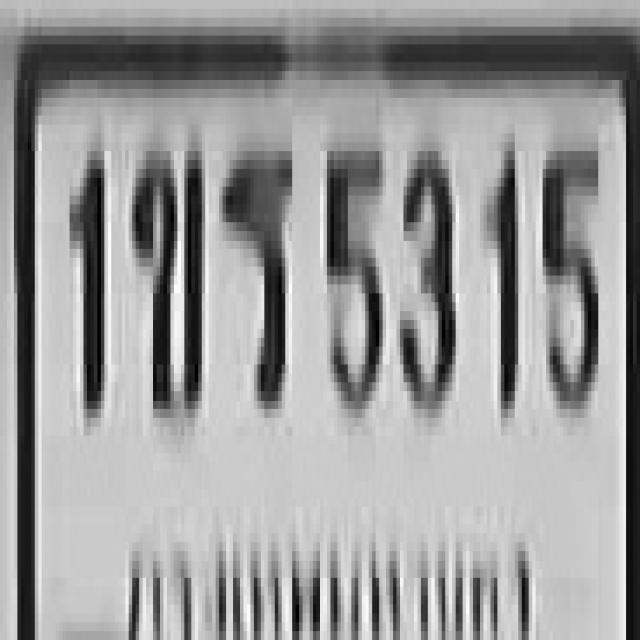1: (66, 142, 101, 409), (483, 138, 515, 404)
11KhorKhai: (128, 142, 202, 409)
3: (397, 142, 452, 409)
44RorRuea: (219, 142, 289, 400)
5: (539, 138, 598, 404), (324, 142, 379, 409)
